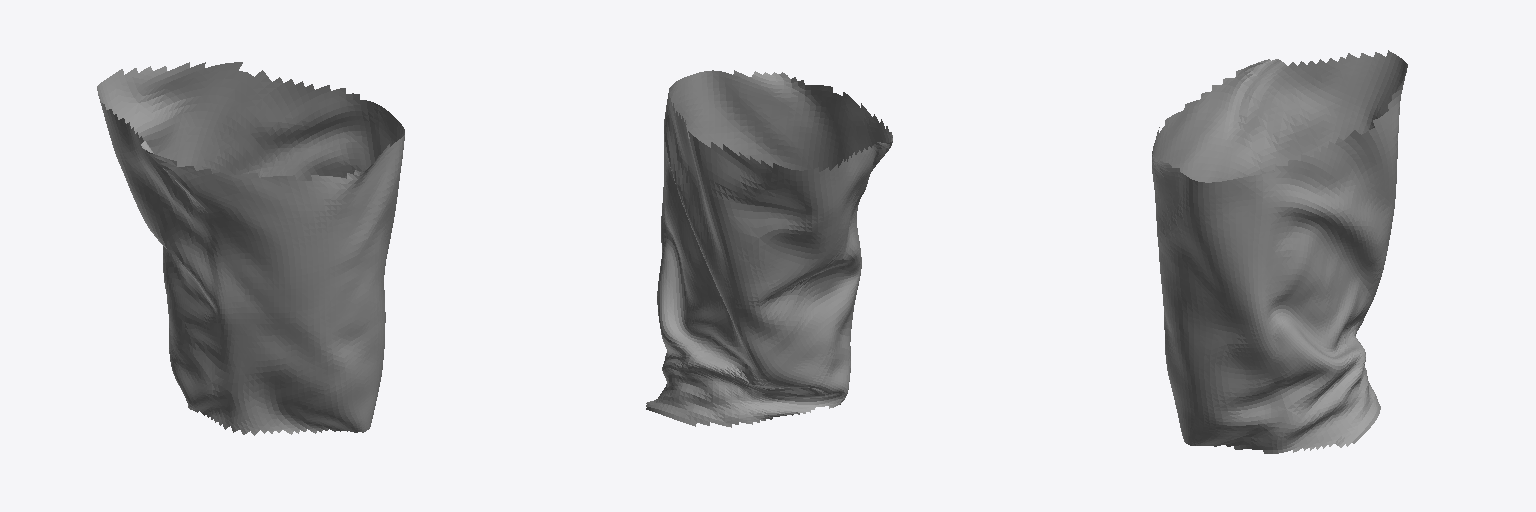
The model's file is muslo2.obj.
3 renders of one model, left to right at view 1: azimuth 30°, elevation 25°; view 2: azimuth 150°, elevation 25°; view 3: azimuth 270°, elevation 25°, orthographic.
Visible parts, largest first — view 1: RUST_3d_Low.001; view 2: RUST_3d_Low.001; view 3: RUST_3d_Low.001.
Part boxes in pixels (bbox=[...]): RUST_3d_Low.001: bbox=[97, 62, 404, 435]; RUST_3d_Low.001: bbox=[646, 70, 892, 427]; RUST_3d_Low.001: bbox=[1152, 50, 1407, 453].
Size of the model in its own units: 18.65 by 23.95 by 17.7.